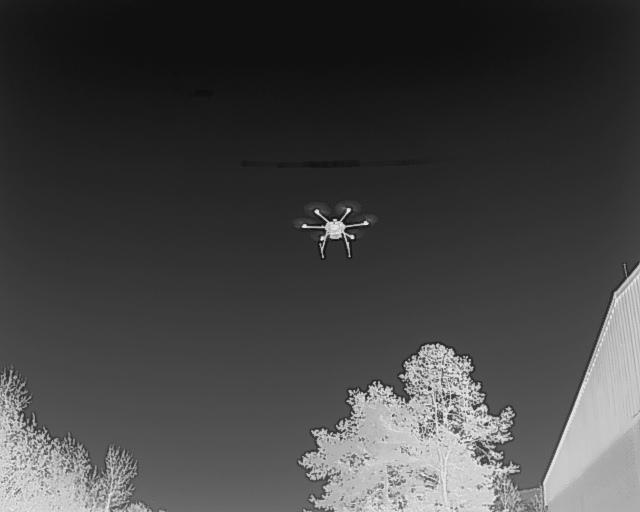drone: (284, 192, 385, 266)
